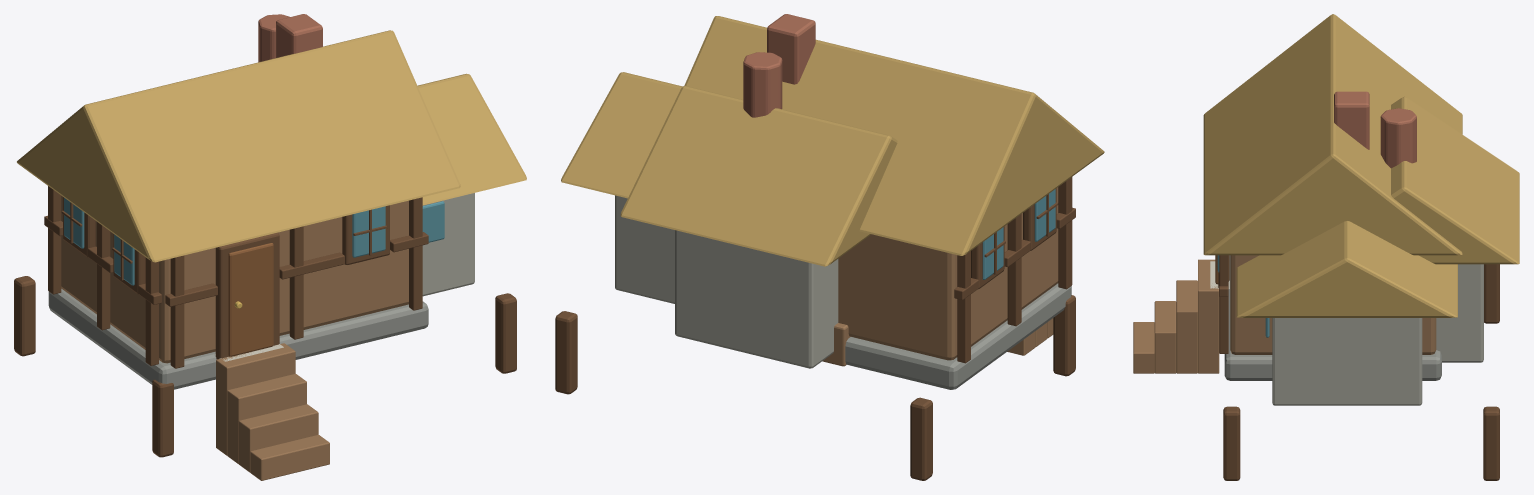
The model's file is wetland-cottage-5.glb.
The picture shows the model from 3 angles, left to right: view 1: azimuth 30°, elevation 25°; view 2: azimuth 150°, elevation 25°; view 3: azimuth 270°, elevation 25°; orthographic projection. The views are drawn at different scales.
Parts seen in each view (by area): view 1: Golden thatch, Aged oak, Dark beams, Foundation stone, Door oak, Fieldstone, Blue glass, Chimney brick; view 2: Golden thatch, Fieldstone, Aged oak, Dark beams, Foundation stone, Chimney brick, Blue glass; view 3: Golden thatch, Fieldstone, Aged oak, Dark beams, Chimney brick, Foundation stone.
Part boxes in pixels (x1,y1,x2,y2): Golden thatch: (17,30,526,262); Aged oak: (61,196,408,480); Dark beams: (14,186,516,457); Foundation stone: (48,289,428,389); Door oak: (228,243,273,356); Fieldstone: (422,193,474,296); Blue glass: (64,198,444,285); Chimney brick: (258,14,322,62); Golden thatch: (561,16,1104,266); Fieldstone: (615,195,838,368); Aged oak: (822,187,1058,366); Dark beams: (555,177,1075,480); Foundation stone: (845,283,1071,389); Chimney brick: (743,14,815,117); Blue glass: (982,189,1055,279); Golden thatch: (1203,14,1519,317); Fieldstone: (1272,264,1483,405); Aged oak: (1133,255,1436,373); Dark beams: (1216,255,1499,480); Chimney brick: (1334,91,1416,168); Foundation stone: (1224,255,1441,380).
Size of the model in its own units: 4.58 by 3.72 by 4.13.
